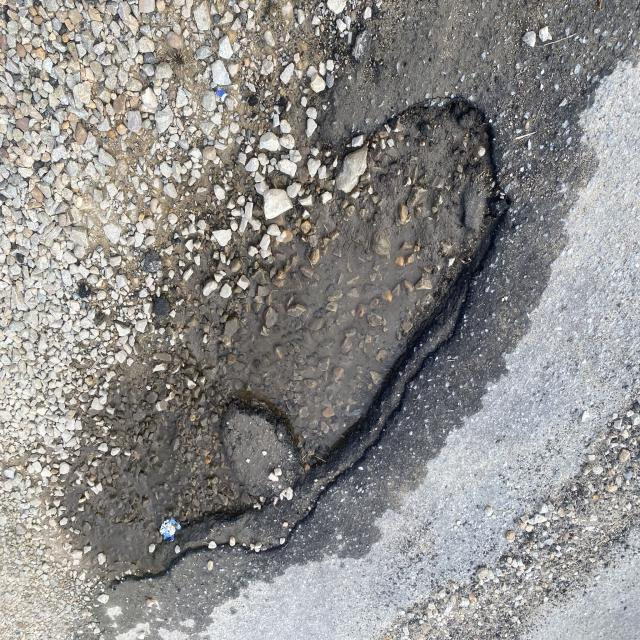pothole: (20, 70, 539, 576)
